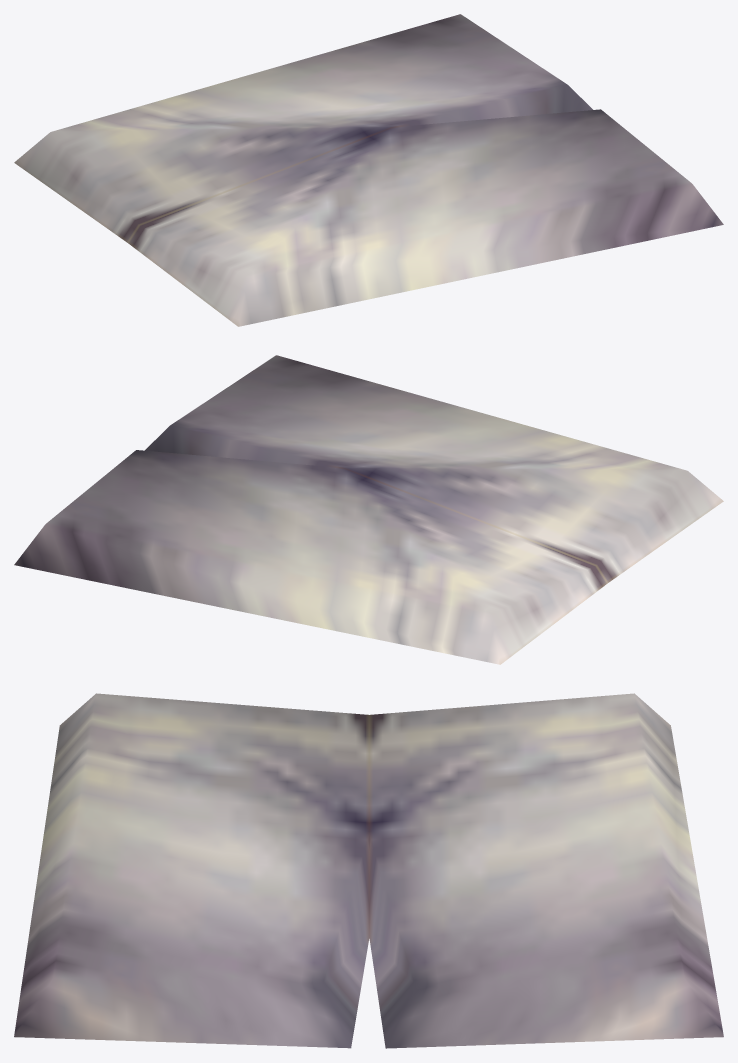
File: foldedpantsgrey.obj
3 views of the same model, one above another, from view 1: azimuth 30°, elevation 25°; view 2: azimuth 150°, elevation 25°; view 3: azimuth 270°, elevation 25° (orthographic). The views are drawn at different scales.
Parts seen in each view (by area): view 1: foldedpantsgrey; view 2: foldedpantsgrey; view 3: foldedpantsgrey.
Part boxes in pixels (left/top/right/bottom): foldedpantsgrey: left=14, top=14, right=723, bottom=326; foldedpantsgrey: left=14, top=355, right=723, bottom=664; foldedpantsgrey: left=14, top=693, right=723, bottom=1048.
Size of the model in its own units: 0.5076 by 0.0509 by 0.4715.
Materials: 1 (1 with a texture image).
